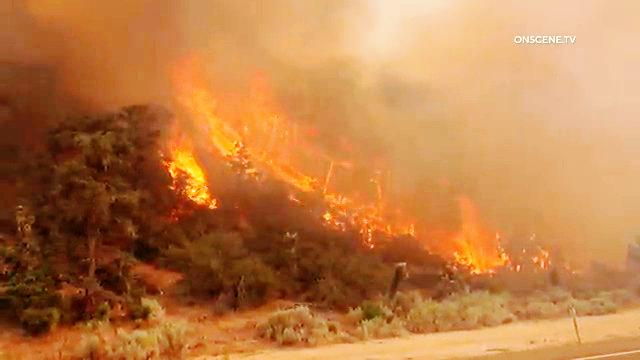fire: (234, 122, 378, 222), (387, 199, 526, 271), (120, 120, 202, 215), (188, 84, 251, 167)
smoke: (380, 67, 634, 205), (129, 9, 490, 88)
